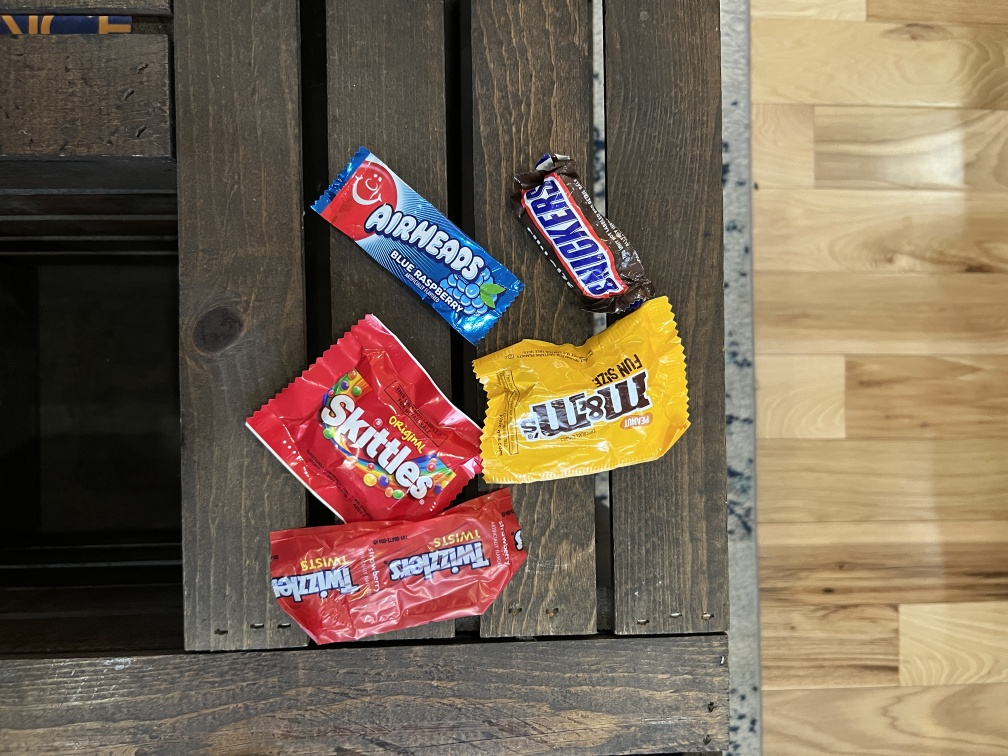airheads: (292, 142, 519, 337)
skittles: (207, 333, 491, 517), (243, 493, 554, 651)
snickers: (465, 294, 692, 480), (489, 144, 669, 309)
